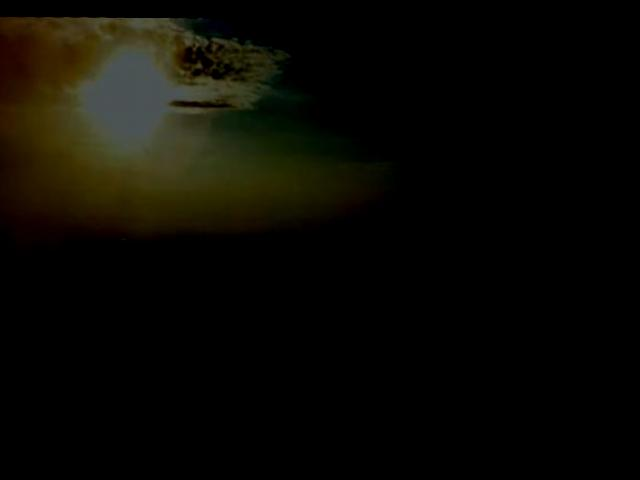iha: (140, 319, 261, 371)
